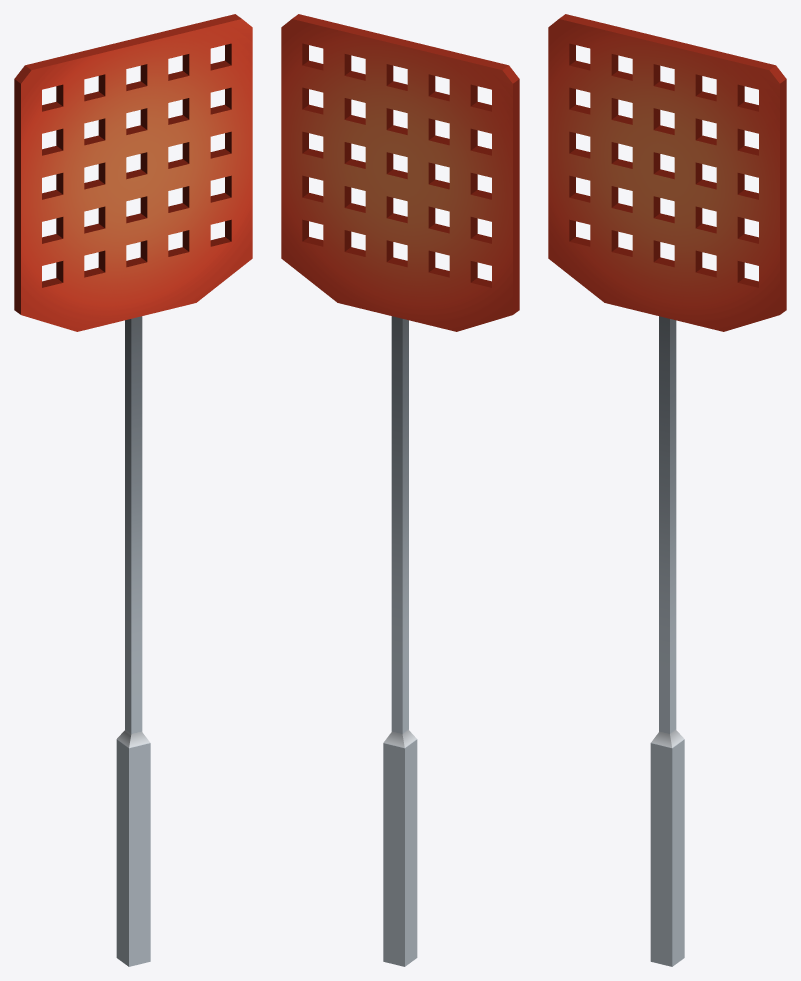
Rendered from Swatter2.0.fbx.
3 views of the same model, side by side, from view 1: azimuth 30°, elevation 25°; view 2: azimuth 150°, elevation 25°; view 3: azimuth 330°, elevation 25° (orthographic).
Parts seen in each view (by area): view 1: pCube1, pCube2; view 2: pCube1, pCube2; view 3: pCube1, pCube2.
Boxes of the visible parts, x1,y1,x2,y2 form: pCube1: (14, 14, 252, 331); pCube2: (116, 316, 150, 966); pCube1: (281, 14, 519, 331); pCube2: (383, 316, 417, 966); pCube1: (548, 14, 786, 331); pCube2: (650, 316, 684, 966).
Size of the model in its own units: 6 by 22.72 by 0.5609.
